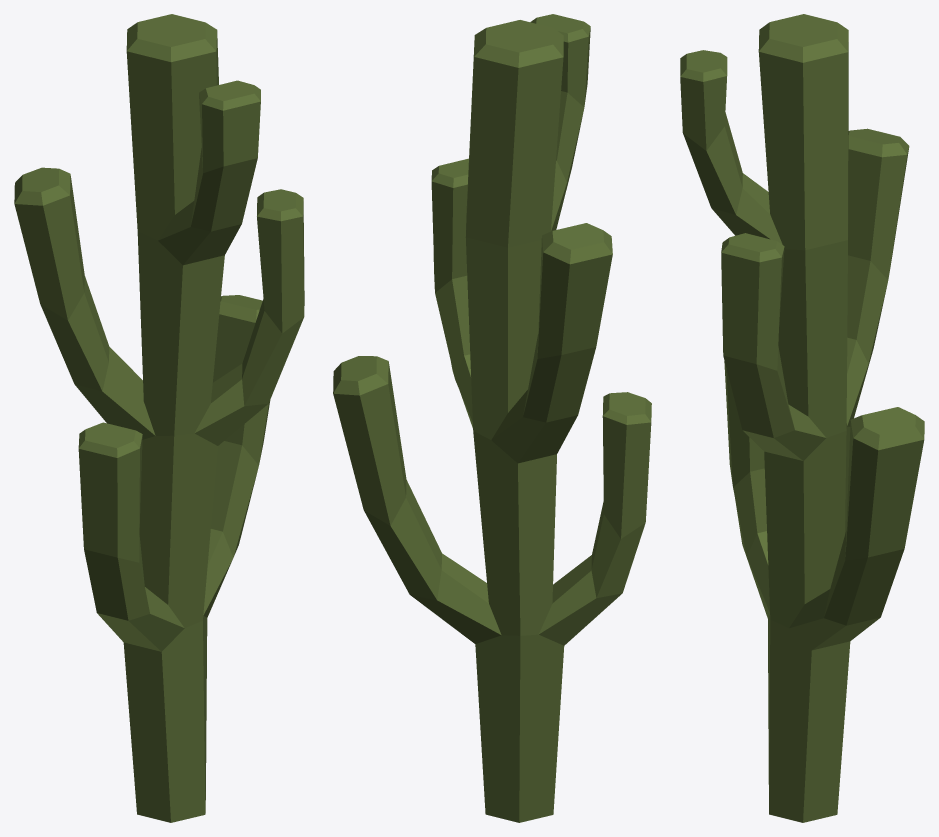
The model's file is SM_Envr_Nature_Plant_Desert_02.fbx.
3 views of the same model, side by side, from view 1: azimuth 30°, elevation 25°; view 2: azimuth 150°, elevation 25°; view 3: azimuth 270°, elevation 25° (orthographic).
Parts seen in each view (by area): view 1: SM_Envr_Nature_Plant_Desert_02; view 2: SM_Envr_Nature_Plant_Desert_02; view 3: SM_Envr_Nature_Plant_Desert_02.
Boxes of the visible parts, x1,y1,x2,y2 form: SM_Envr_Nature_Plant_Desert_02: (14, 14, 304, 822); SM_Envr_Nature_Plant_Desert_02: (333, 14, 651, 822); SM_Envr_Nature_Plant_Desert_02: (680, 14, 924, 822).
Bounding box in the file's own units: 123 × 330 × 94.32.
